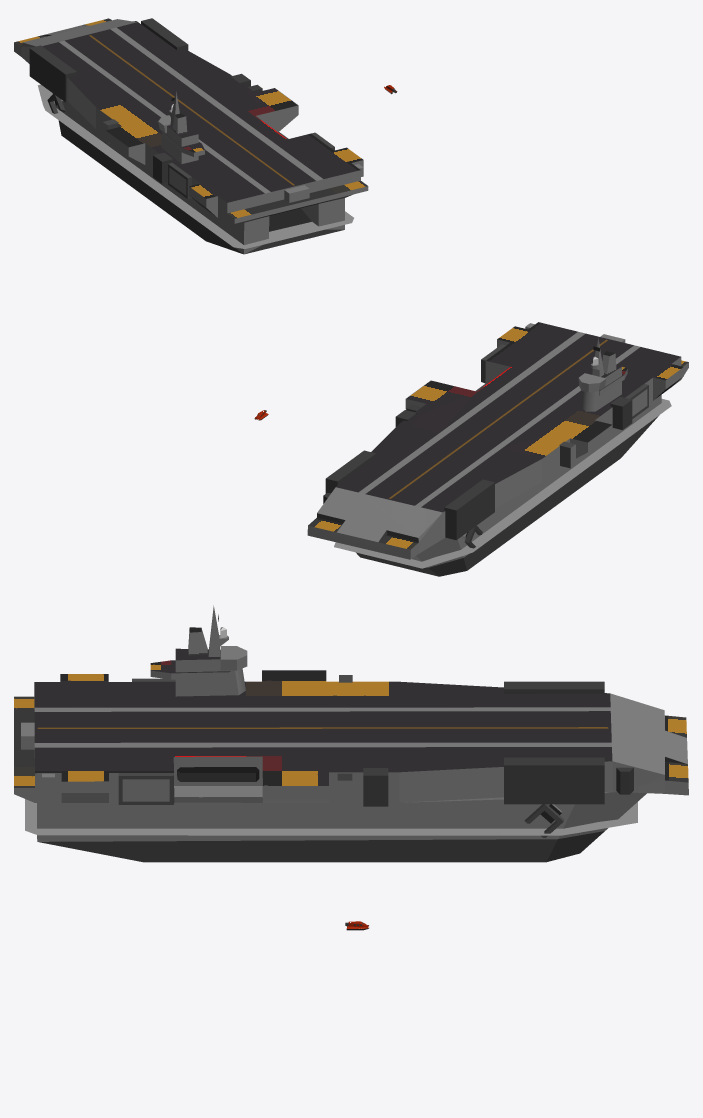
File: vehicle_lods.fbx
3 views of the same model, one above another, from view 1: azimuth 30°, elevation 25°; view 2: azimuth 150°, elevation 25°; view 3: azimuth 270°, elevation 25° (orthographic). The views are drawn at different scales.
Visible parts, largest first — view 1: aircraft_carrier_shell_low, ocean_foam_carrier; view 2: aircraft_carrier_shell_low, ocean_foam_carrier; view 3: aircraft_carrier_shell_low, ocean_foam_carrier.
Boxes of the visible parts, x1,y1,x2,y2 form: aircraft_carrier_shell_low: (14, 18, 368, 254); ocean_foam_carrier: (37, 84, 353, 248); aircraft_carrier_shell_low: (307, 322, 688, 576); ocean_foam_carrier: (334, 399, 671, 568); aircraft_carrier_shell_low: (14, 605, 688, 862); ocean_foam_carrier: (25, 799, 637, 835).
Bounding box in the file's own units: 25653 × 6450 × 21269.
Materials: 6 (5 with a texture image).
